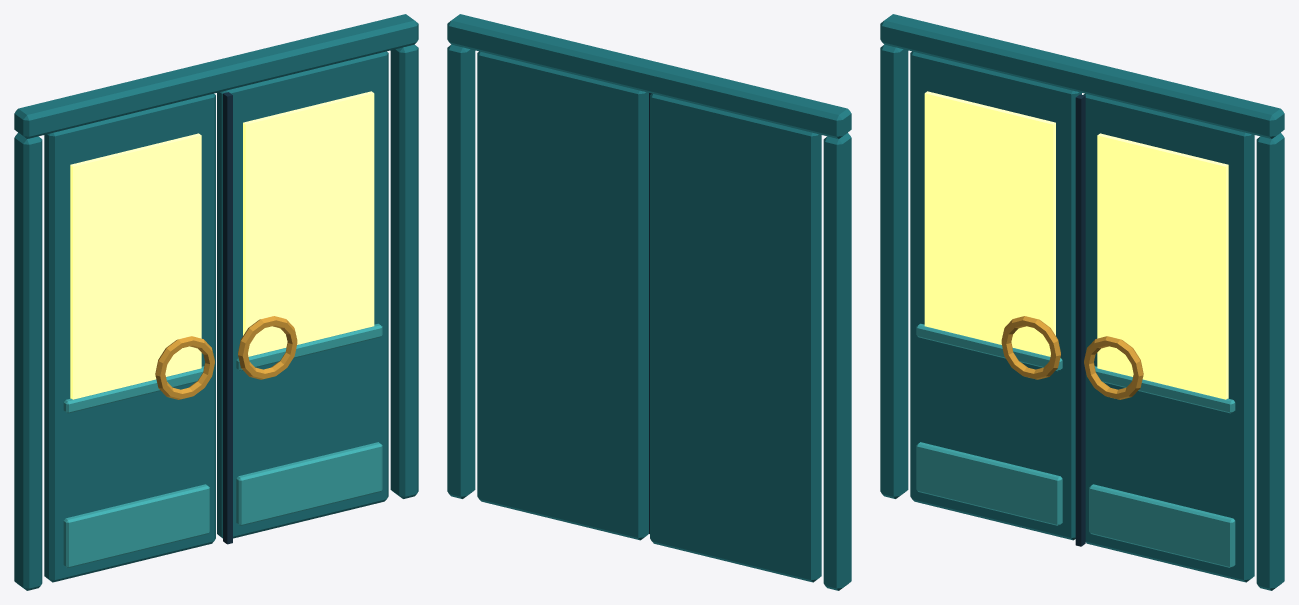
Rendered from cinema_double_doors.glb.
3 views of the same model, side by side, from view 1: azimuth 30°, elevation 25°; view 2: azimuth 150°, elevation 25°; view 3: azimuth 330°, elevation 25° (orthographic).
Parts seen in each view (by area): view 1: part_door_r, part_door_l, cinema_double_doors; view 2: part_door_r, part_door_l, cinema_double_doors; view 3: part_door_r, part_door_l, cinema_double_doors.
Boxes of the visible parts, x1,y1,x2,y2 form: part_door_r: [217, 51, 388, 544]; part_door_l: [44, 93, 215, 582]; cinema_double_doors: [14, 14, 418, 590]; part_door_r: [477, 51, 651, 540]; part_door_l: [650, 93, 821, 582]; cinema_double_doors: [447, 14, 851, 590]; part_door_r: [1075, 93, 1254, 582]; part_door_l: [910, 51, 1081, 540]; cinema_double_doors: [880, 14, 1284, 590].
Bounding box in the file's own units: 2.06 × 2.37 × 0.1717.
